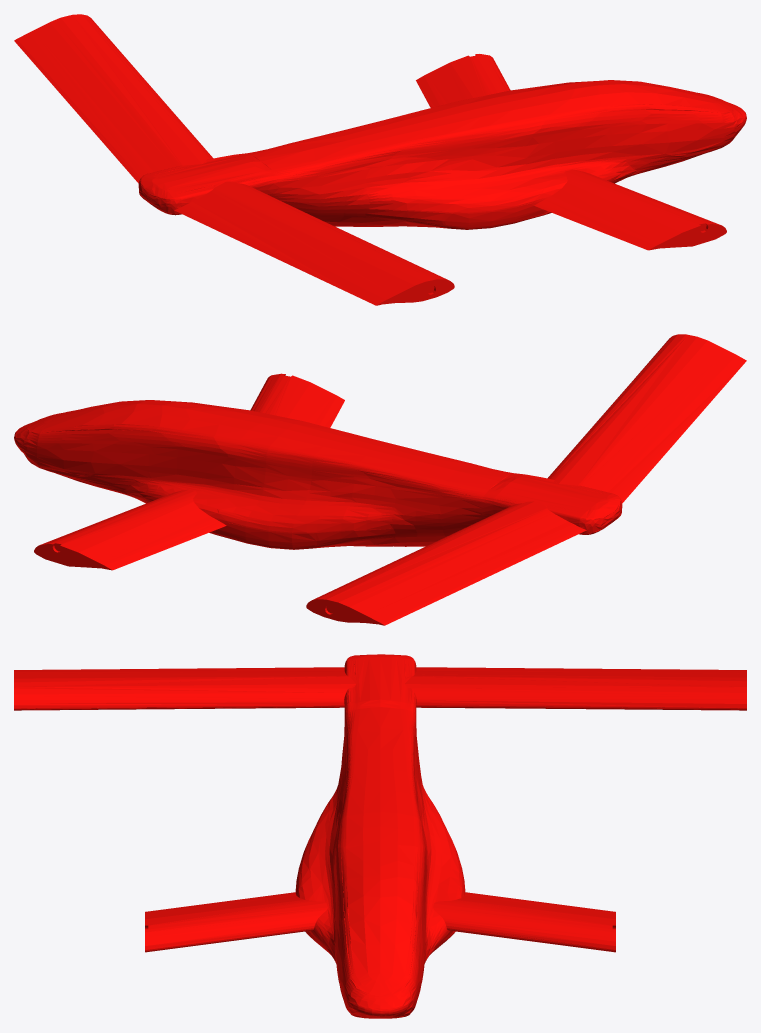
Rendered from body.dae.
The picture shows the model from 3 angles, top to bottom: view 1: azimuth 30°, elevation 25°; view 2: azimuth 150°, elevation 25°; view 3: azimuth 270°, elevation 25°; orthographic projection.
Parts seen in each view (by area): view 1: Main Body; view 2: Main Body; view 3: Main Body.
Part boxes in pixels (bbox=[...]): Main Body: bbox=[14, 14, 746, 305]; Main Body: bbox=[14, 334, 746, 625]; Main Body: bbox=[14, 654, 746, 1018].
Size of the model in its own units: 1.04 by 1.09 by 0.1845.
